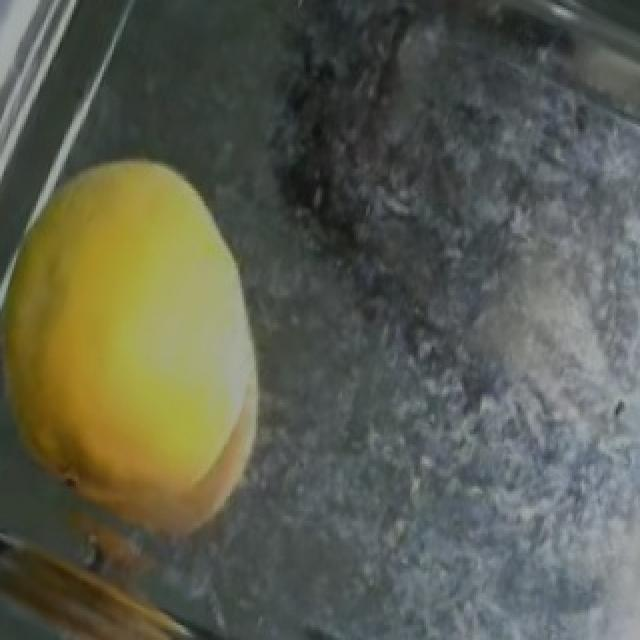fruit: (2, 112, 338, 526)
